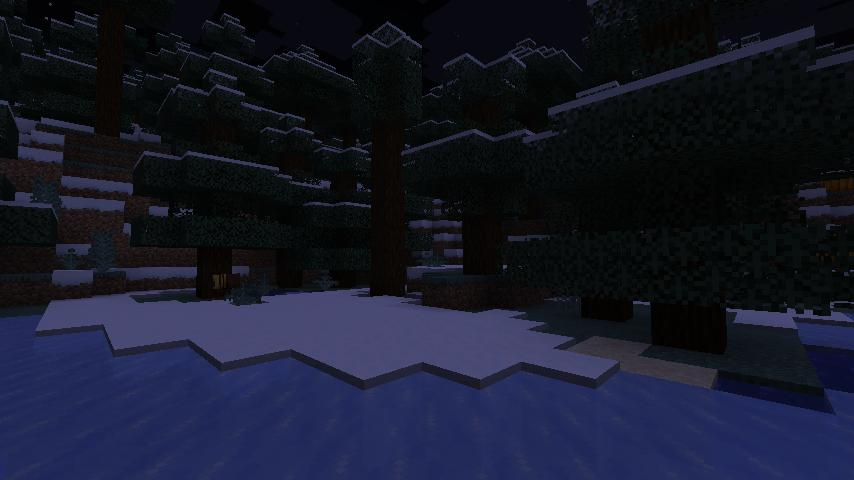bee: (209, 272, 244, 292)
